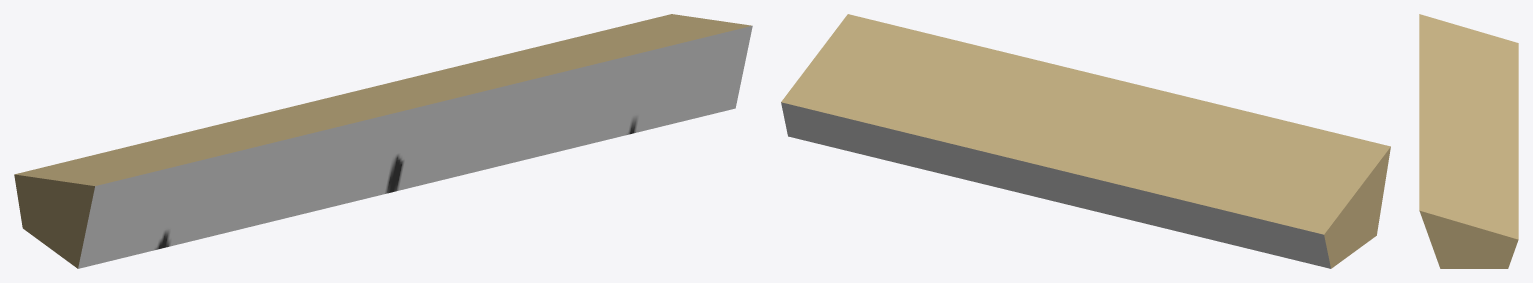
File: Birch_Firewood_05_LOD.fbx
3 renders of one model, left to right at view 1: azimuth 30°, elevation 25°; view 2: azimuth 150°, elevation 25°; view 3: azimuth 270°, elevation 25°, orthographic. The views are drawn at different scales.
Parts seen in each view (by area): view 1: Birch_Firewood_05_LOD0; view 2: Birch_Firewood_05_LOD0; view 3: Birch_Firewood_05_LOD0.
Part boxes in pixels (left/top/right/bottom): Birch_Firewood_05_LOD0: left=14, top=14, right=752, bottom=268; Birch_Firewood_05_LOD0: left=781, top=14, right=1390, bottom=268; Birch_Firewood_05_LOD0: left=1419, top=14, right=1518, bottom=268.
Size of what is drawn, in the model's own units: 56 by 7.76 by 11.95.
